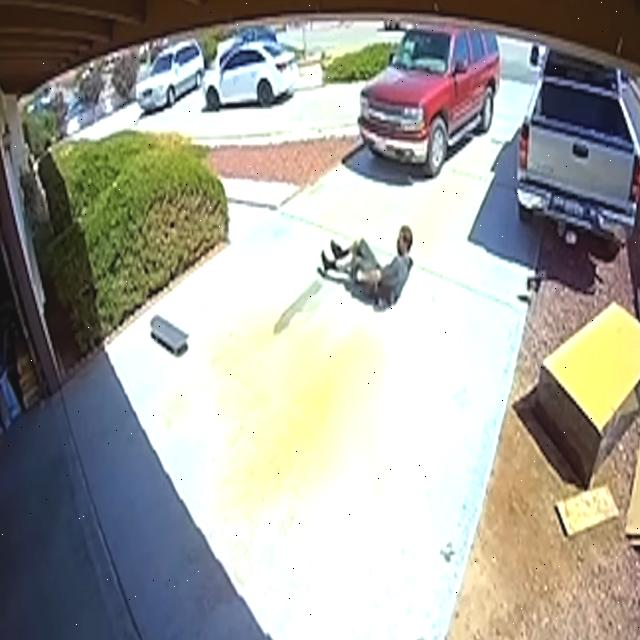fallen: (321, 226, 413, 307)
